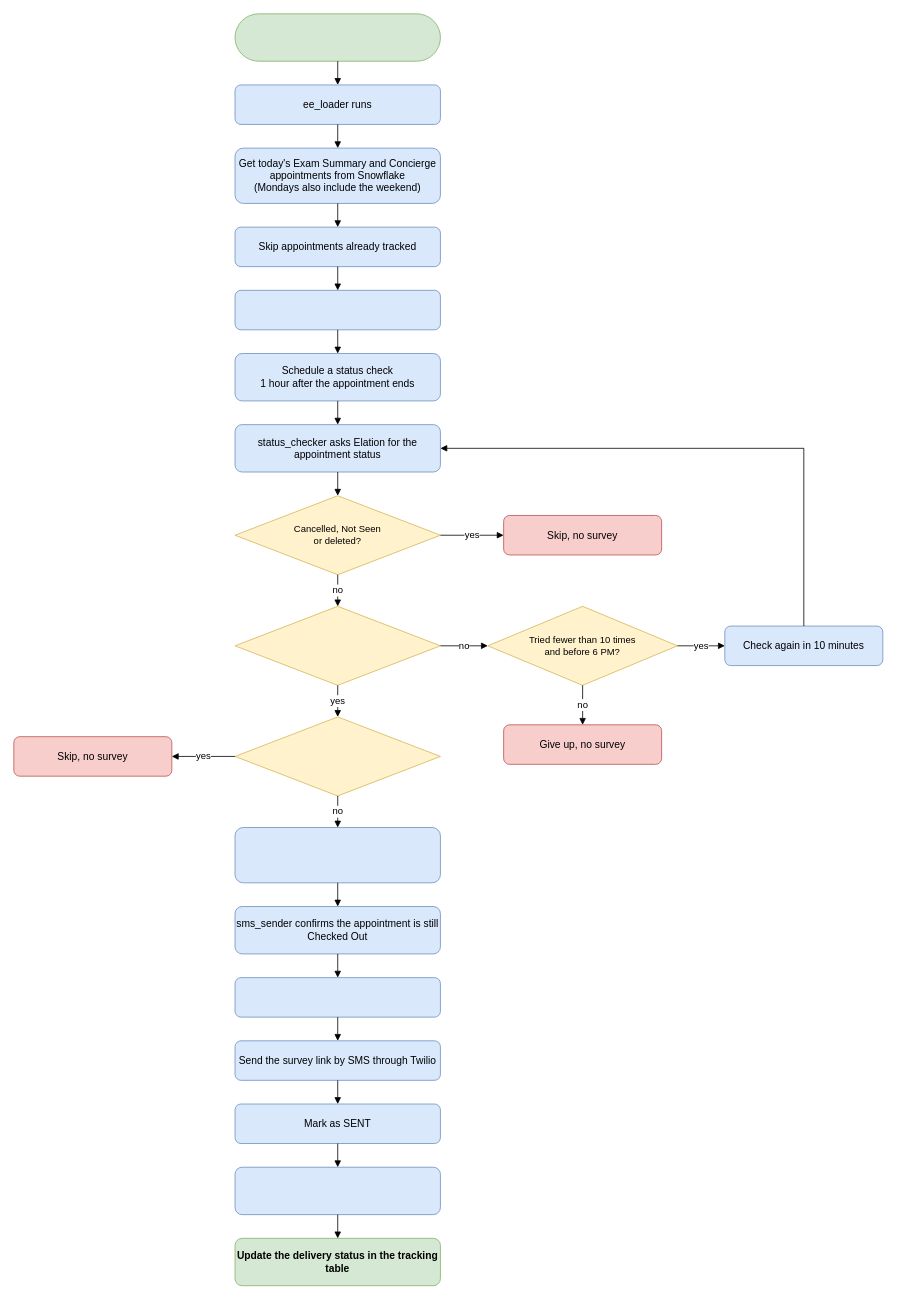
Some shapes in this 897 by 1300 pixel diagram are drawn without their labels. The shapes that lost their labels are listed below. From the top down, each one's centre as x and y in pixels, then its label:
point (337, 37): EventBridge triggers every hour Mon-Fri, 6 AM to 5 PM CT
point (337, 310): Save new appointments to the tracking table as PENDING
point (337, 645): Checked Out?
point (337, 756): Patient got this survey in the last 3 months?
point (337, 855): Schedule the SMS for 1 hour after checkout (within 8 AM to 5 PM, business days)
point (337, 997): Find a valid phone number for the patient
point (337, 1190): Twilio reports delivery status (delivered / failed)
